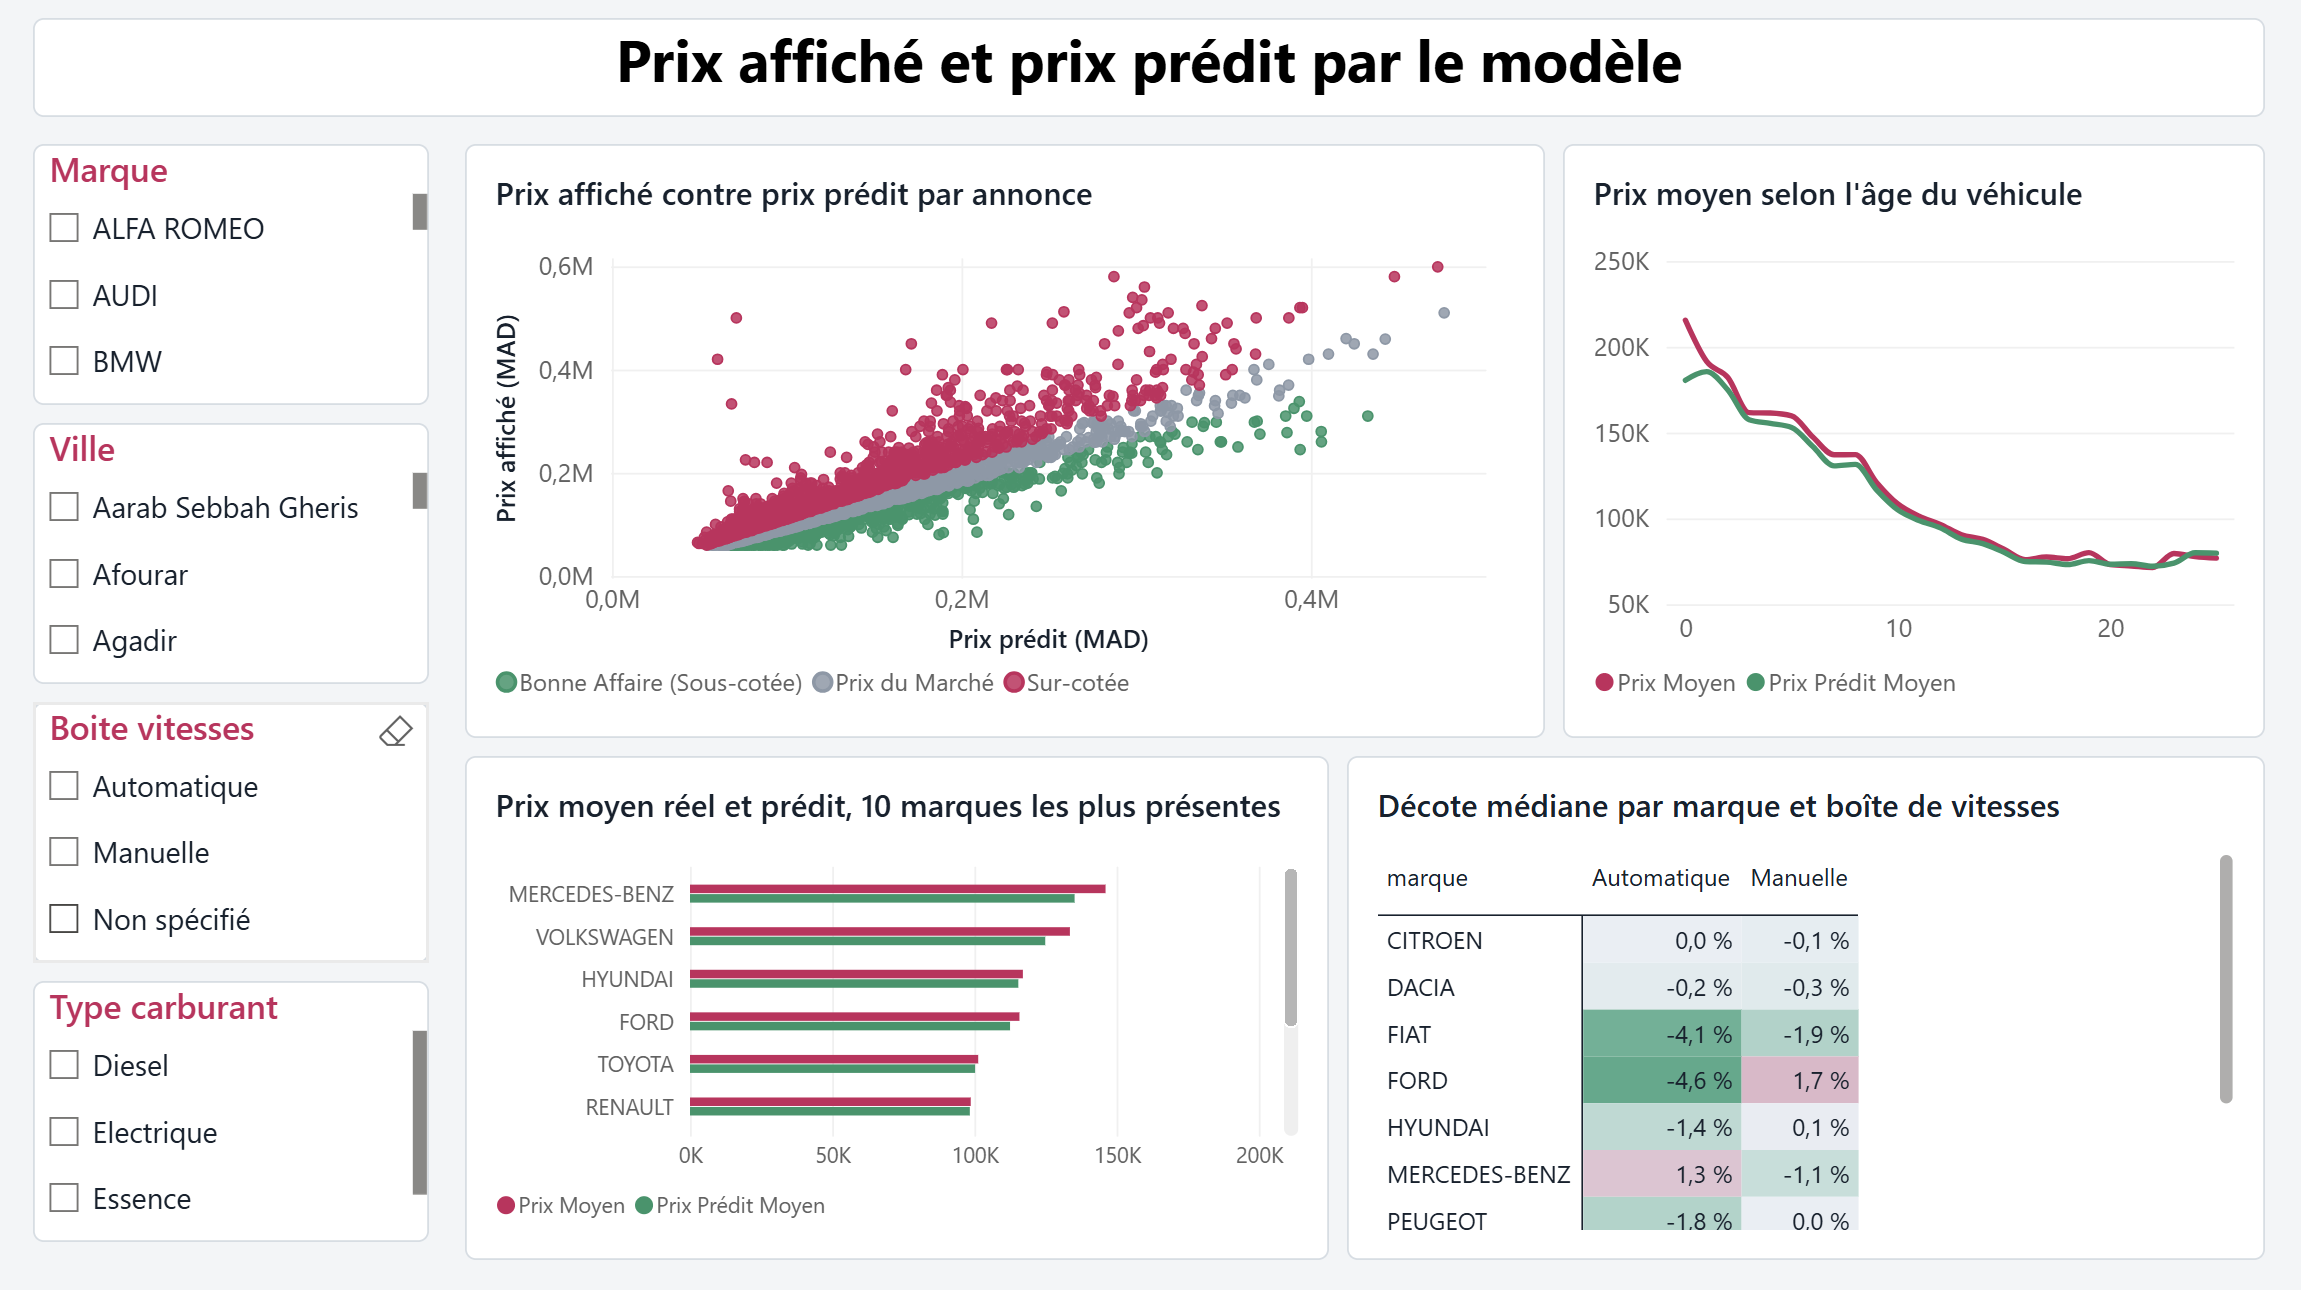

The page's visual inventory and layout, read from the dashboard file:
{"tool":"powerbi","page":{"name":"Marché et prix","canvas":[1920,1080],"ordinal":1},"visuals":[{"type":"textbox","box":[20,10,1240,55],"z":0},{"type":"scatterChart","title":"Prix affiché contre prix prédit par annonce","fields":{"Category":["predictions_powerbi.id_annonce"],"Series":["predictions_powerbi.statut_offre"],"X":["Avg(predictions_powerbi.prix_predit_ml)"],"Y":["Avg(predictions_powerbi.prix)"]},"box":[260,80,600,330],"z":1000},{"type":"lineChart","title":"Prix moyen selon l''âge du véhicule","fields":{"Category":["predictions_powerbi.age_vehicule"],"Y":["predictions_powerbi.Prix Moyen","predictions_powerbi.Prix Prédit Moyen"]},"box":[870,80,390,330],"z":2000},{"type":"clusteredBarChart","title":"Prix moyen réel et prédit, 10 marques les plus présentes","fields":{"Category":["predictions_powerbi.marque"],"Y":["predictions_powerbi.Prix Moyen","predictions_powerbi.Prix Prédit Moyen"]},"box":[260,420,480,280],"z":3000},{"type":"pivotTable","title":"Décote médiane par marque et boîte de vitesses","fields":{"Columns":["predictions_powerbi.boite_vitesses"],"Rows":["predictions_powerbi.marque"],"Values":["predictions_powerbi.Décote Médiane %"]},"box":[750,420,510,280],"z":4000},{"type":"slicer","fields":{"Values":["predictions_powerbi.marque"]},"box":[20,80,220,145],"z":5000},{"type":"slicer","fields":{"Values":["predictions_powerbi.ville"]},"box":[20,235,220,145],"z":6000},{"type":"slicer","fields":{"Values":["predictions_powerbi.boite_vitesses"]},"box":[20,390,220,145],"z":7000},{"type":"slicer","fields":{"Values":["predictions_powerbi.type_carburant"]},"box":[20,545,220,145],"z":8000}]}

Visuals, with their boxes in screenshot pixels (x1, y1, x2, y2), scaled from the page's 1920x1080 canvas onto the 2301x1290 screenshot:
textbox: rect(24, 12, 1510, 78)
"Prix affiché contre prix prédit par annonce" scatterChart: rect(312, 96, 1031, 490)
"Prix moyen selon l''âge du véhicule" lineChart: rect(1043, 96, 1510, 490)
"Prix moyen réel et prédit, 10 marques les plus présentes" clusteredBarChart: rect(312, 502, 887, 836)
"Décote médiane par marque et boîte de vitesses" pivotTable: rect(899, 502, 1510, 836)
slicer - predictions_powerbi.marque: rect(24, 96, 288, 269)
slicer - predictions_powerbi.ville: rect(24, 281, 288, 454)
slicer - predictions_powerbi.boite_vitesses: rect(24, 466, 288, 639)
slicer - predictions_powerbi.type_carburant: rect(24, 651, 288, 824)
